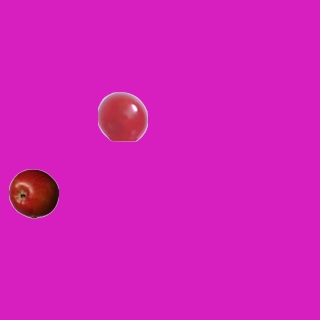Apple Braeburn: (8, 168, 58, 218)
Redcurrant: (97, 91, 147, 141)
